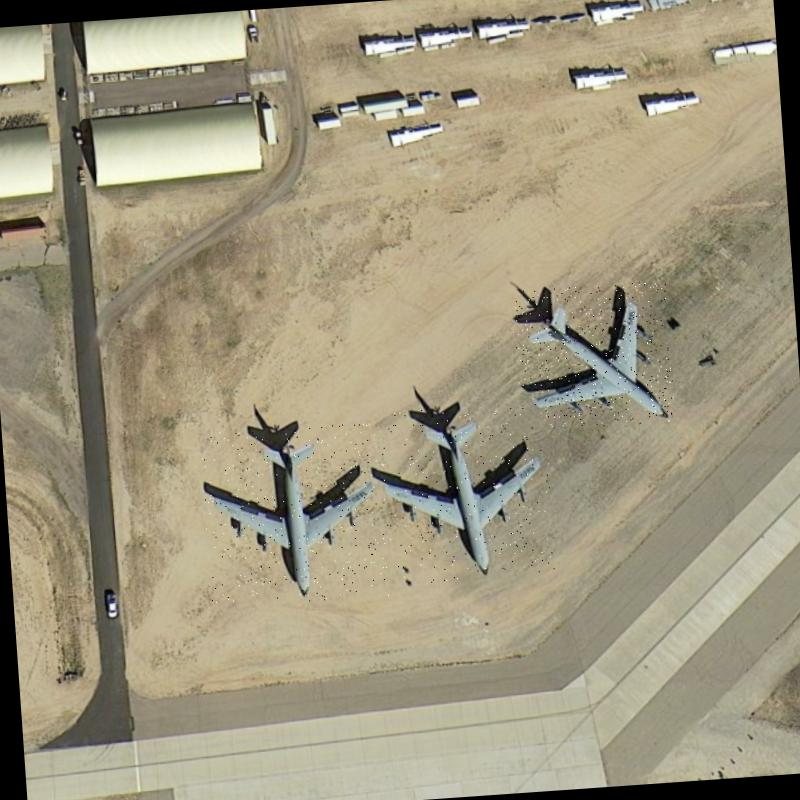A14: (198, 420, 388, 607), (378, 401, 556, 585), (512, 280, 675, 432)
